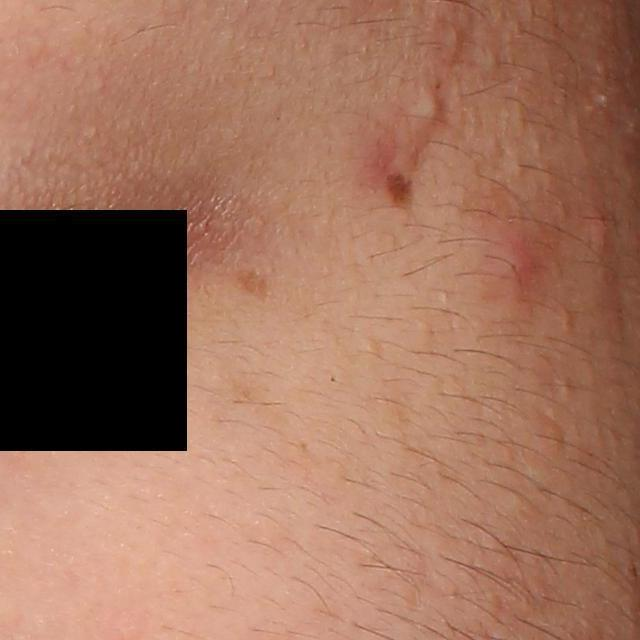comedo: (417, 89, 446, 121), (482, 49, 500, 72)
melasma: (235, 266, 277, 305)
nevus: (378, 165, 418, 219)
papule: (490, 231, 536, 284), (584, 202, 616, 259)
